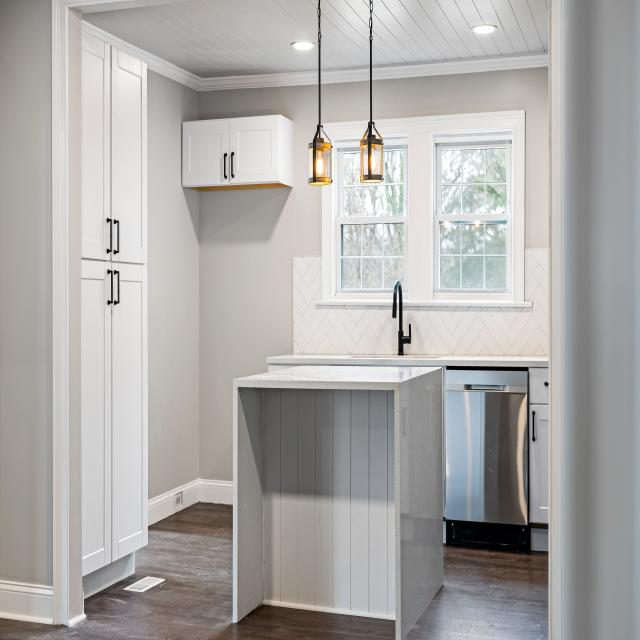Appliance_Dishwasher: (442, 366, 534, 552)
Appliance_Sink: (337, 281, 446, 358)
Cabinet_Flat: (529, 368, 549, 405)
Cabinet_Shaker: (71, 20, 148, 600), (182, 116, 293, 189), (529, 405, 549, 525)
Countertop_Solid_Surface: (232, 366, 444, 393), (265, 354, 549, 367)
